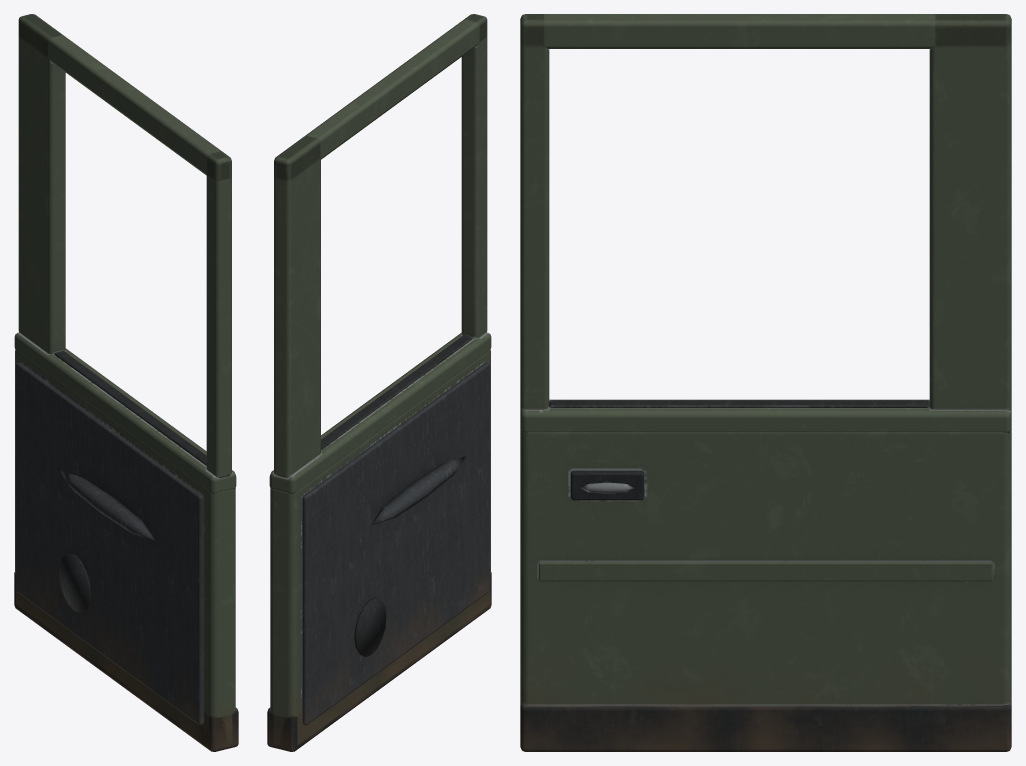
The model's file is mule_door_rr.glb.
The picture shows the model from 3 angles, left to right: view 1: azimuth 30°, elevation 25°; view 2: azimuth 150°, elevation 25°; view 3: azimuth 270°, elevation 25°; orthographic projection. The views are drawn at different scales.
Parts seen in each view (by area): view 1: mule_door_rr; view 2: mule_door_rr; view 3: mule_door_rr.
Part boxes in pixels (x1,y1,x2,y2): mule_door_rr: (14, 14, 238, 751); mule_door_rr: (267, 14, 491, 751); mule_door_rr: (520, 14, 1011, 751).
Size of the model in its own units: 0.1596 by 1.52 by 0.93.
1 material, 1 textured.
